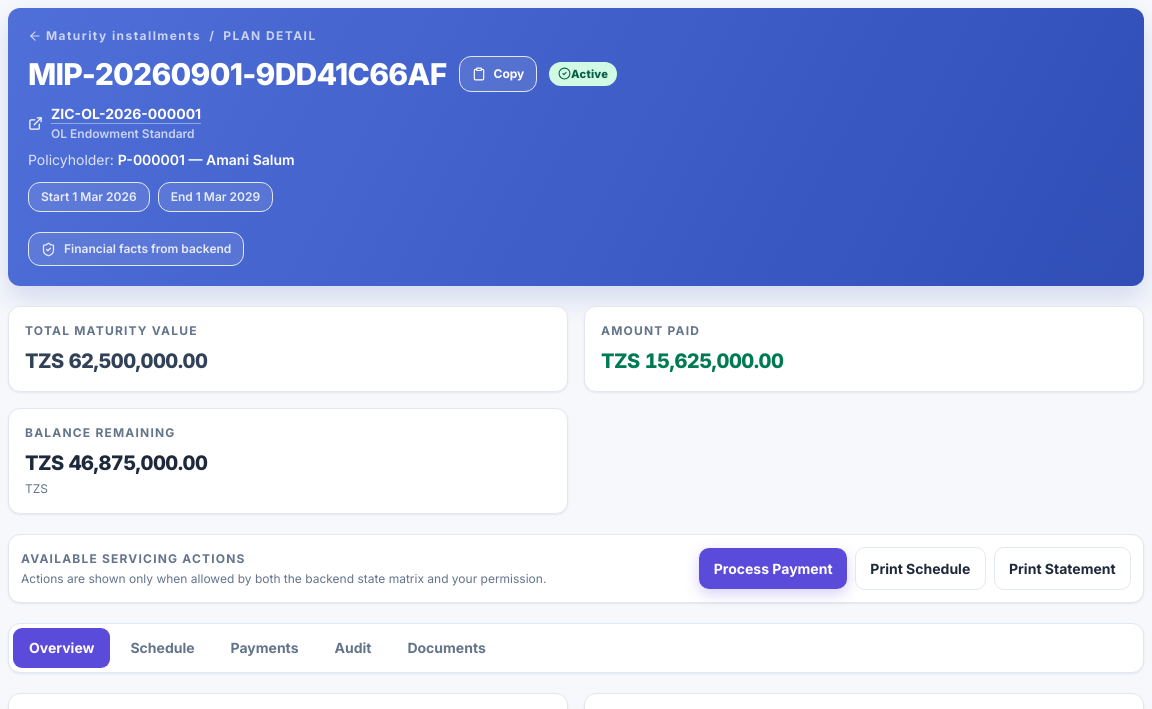
it: OL Maturity Installments detail (Prompt 3 master-detail) › switches between Overview, Schedule, Payments, Audit, and Documents tabs
Expected: the heading "MIP-20260901-9DD41C66AF" is shown, left=28, top=56, right=446, bottom=92
Step 1. Click the button "Schedule" → (162, 648), box left=114, top=628, right=210, bottom=668
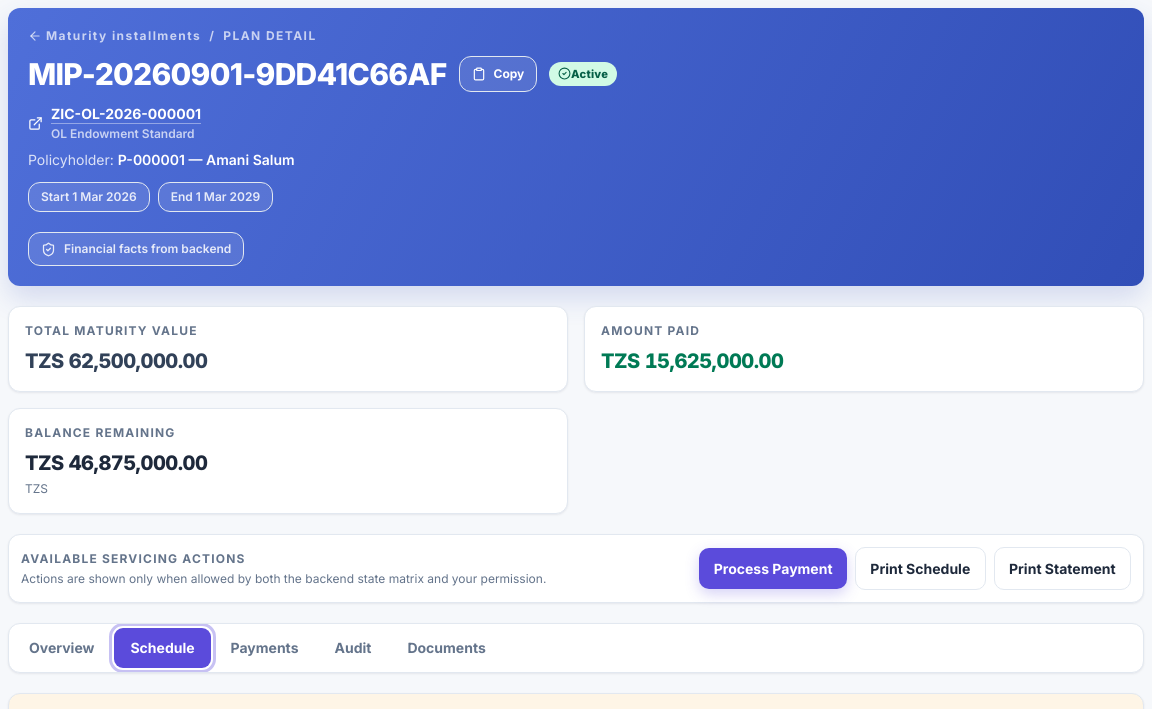
Step 2. Click the button "Payments" → (265, 648), box left=215, top=628, right=314, bottom=668
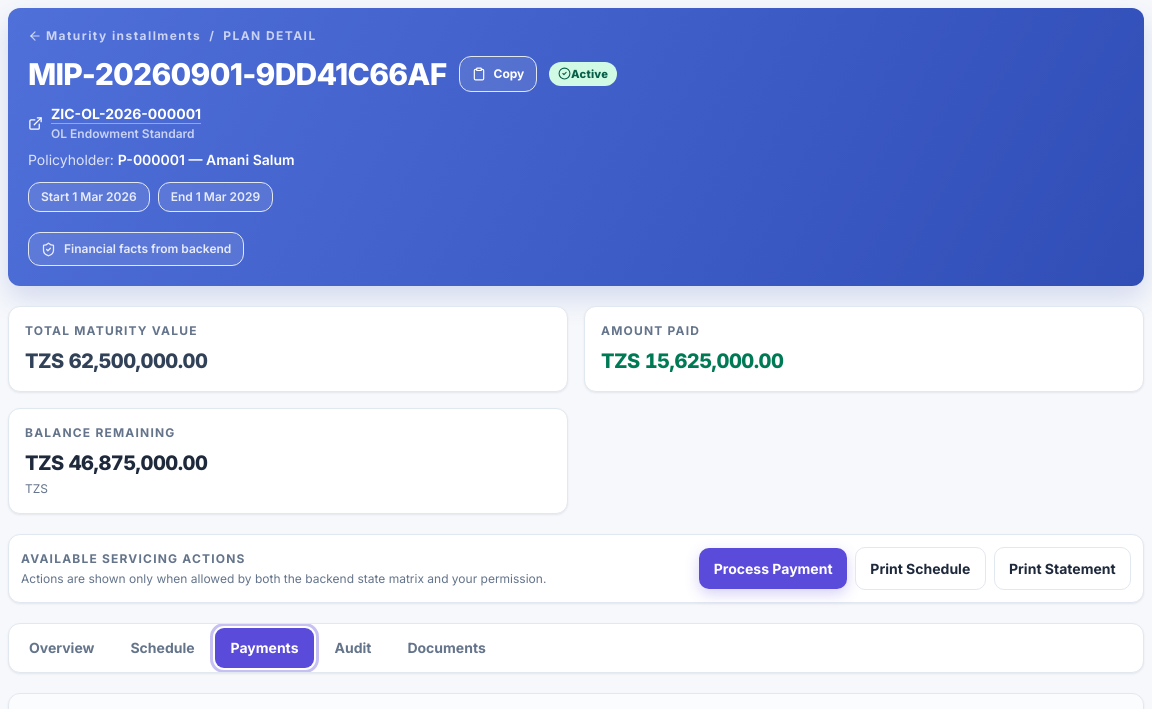
Step 3. Click the button "Audit" → (353, 648), box left=318, top=628, right=387, bottom=668
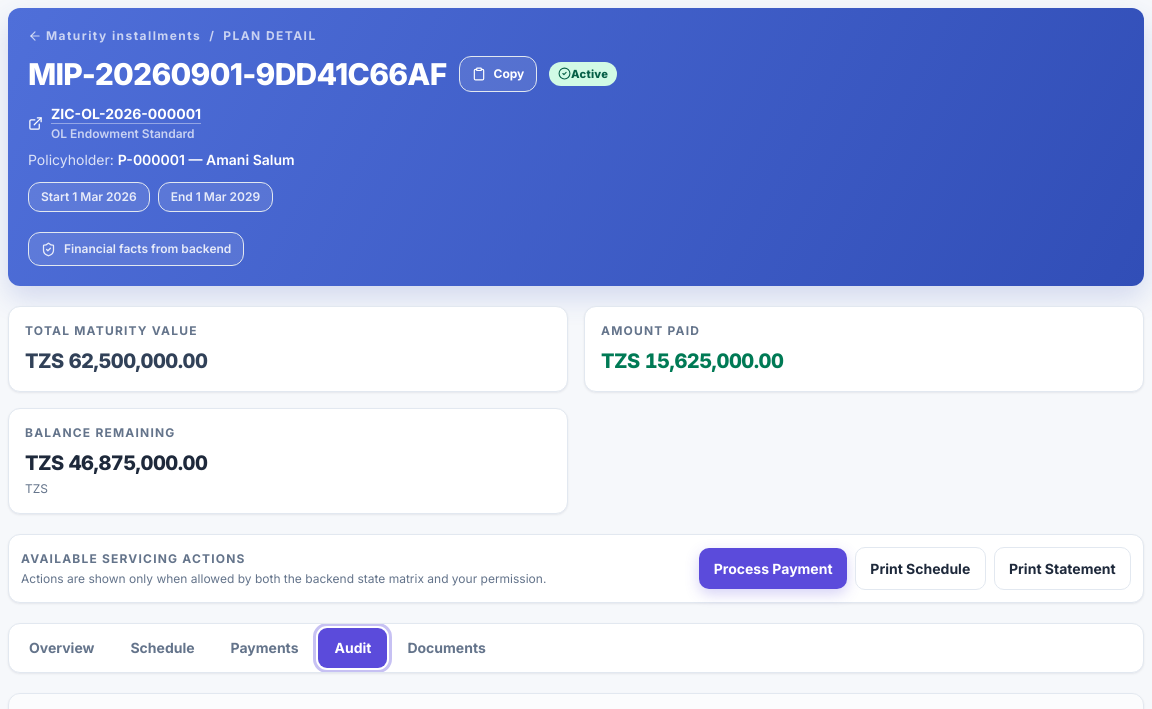
Step 4. Click the button "Documents" → (447, 648), box left=391, top=628, right=502, bottom=668
(page scrolled)
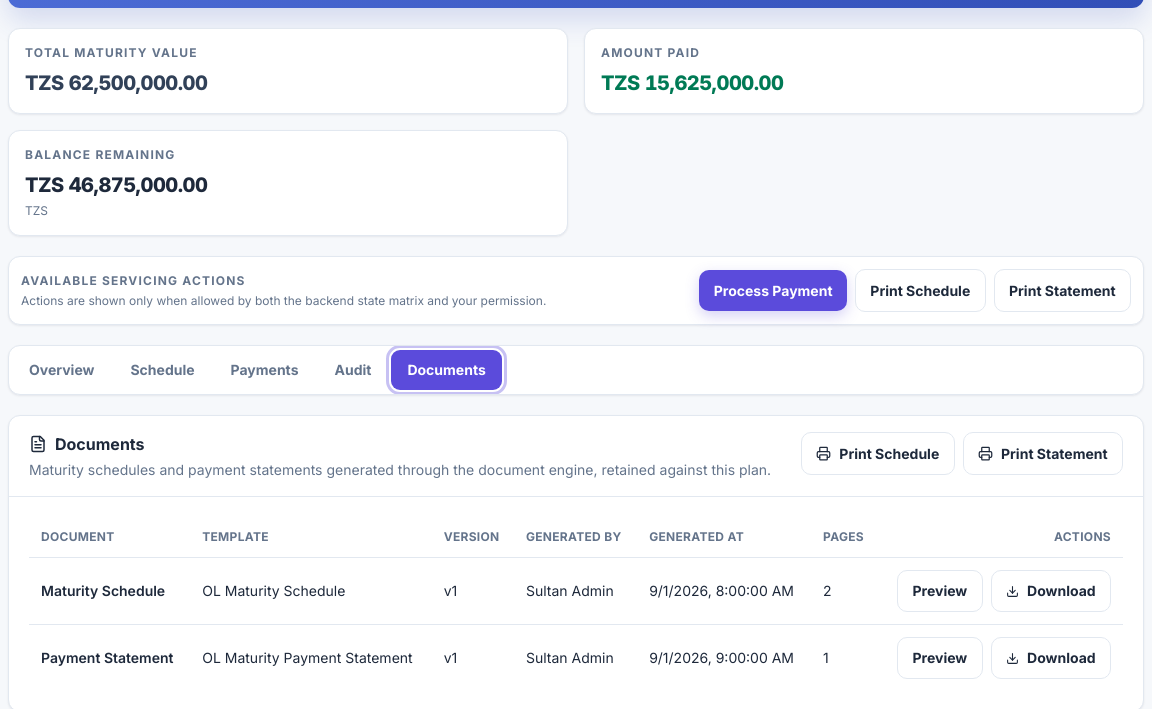
Now the text "Maturity Schedule" is shown, box left=29, top=558, right=190, bottom=624
Now the 2nd button "Print Schedule" is shown, box left=801, top=432, right=955, bottom=475
Now the 2nd button "Print Statement" is shown, box left=963, top=432, right=1123, bottom=475
